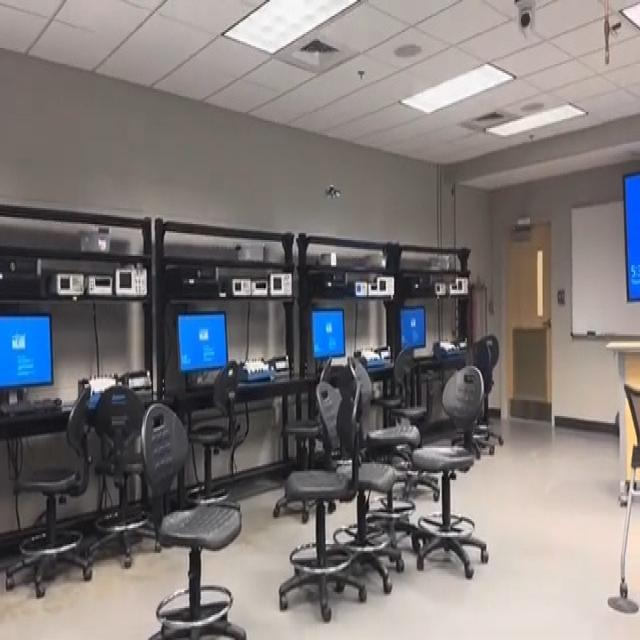drone: (312, 156, 351, 212)
